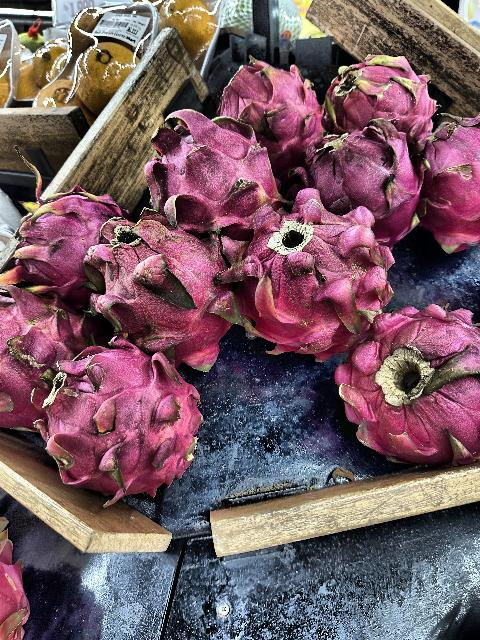buah-naga-matang: (33, 346, 200, 499), (221, 205, 393, 348), (84, 212, 240, 366), (350, 308, 480, 464), (146, 110, 278, 230), (296, 120, 424, 240), (0, 288, 92, 432), (316, 51, 442, 151), (214, 54, 328, 160), (6, 200, 120, 290), (414, 114, 480, 250)
